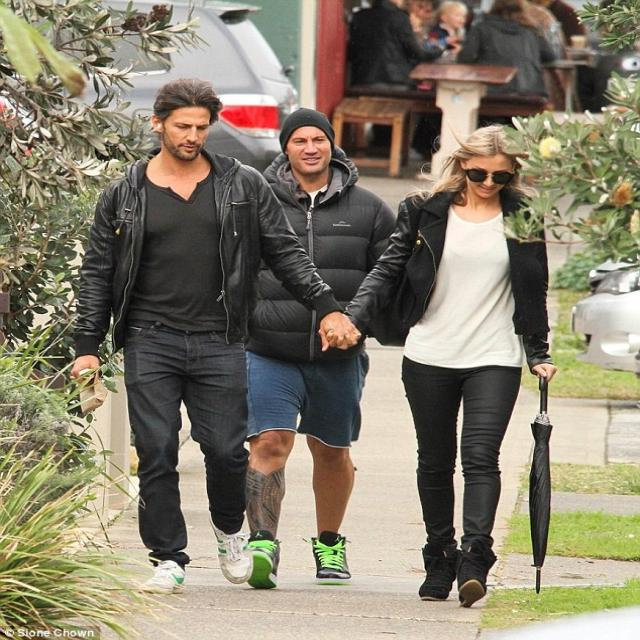body: (65, 74, 368, 599), (318, 121, 563, 613), (235, 100, 408, 593), (344, 0, 464, 162), (455, 0, 562, 98), (534, 0, 591, 51), (433, 0, 470, 58), (465, 0, 496, 27), (409, 0, 434, 33)
